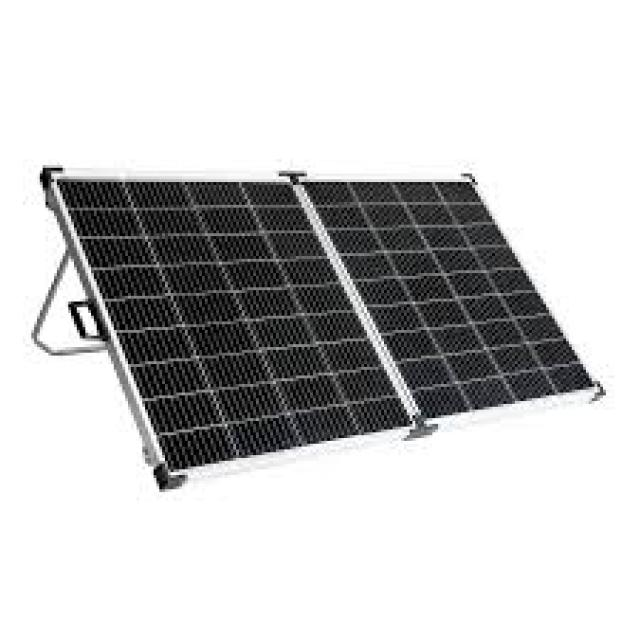Solar: (34, 171, 600, 492)
